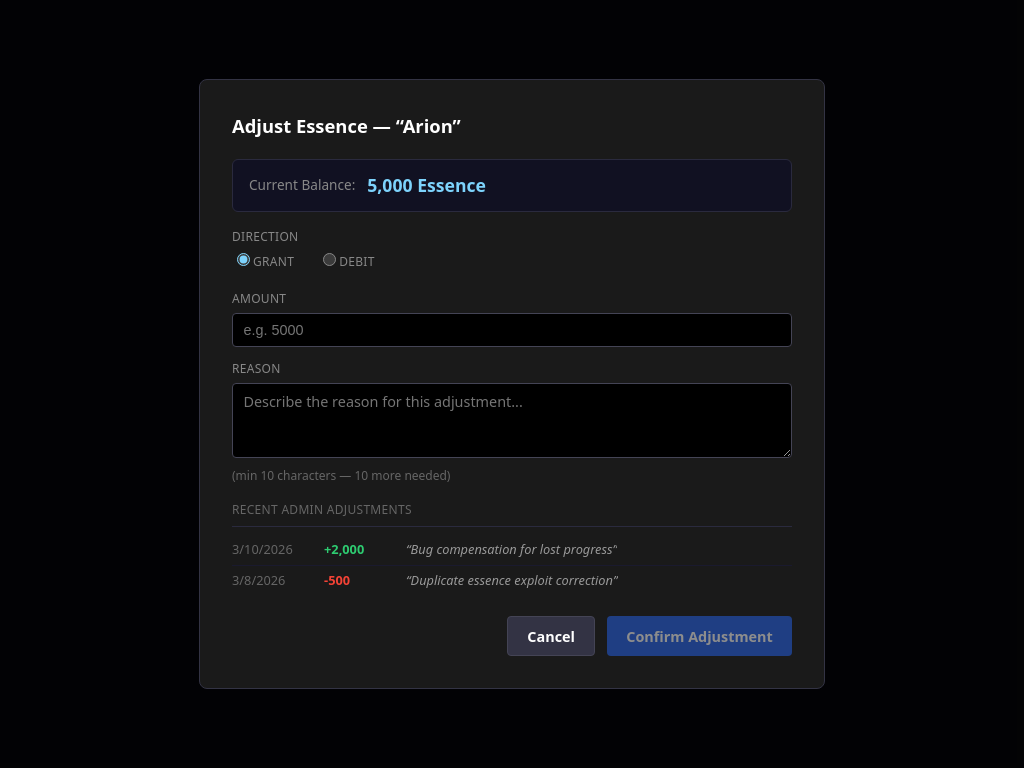
Test: EssenceAdjustModal › grant/debit toggle updates preview
Expected: the text "5,000 Essence" is shown, [367,172,486,199]
// Enter an amount
Type "1000" into the number field with placeholder "e.g. 5000" at {"x": 512, "y": 330}, box [232,312,792,346]
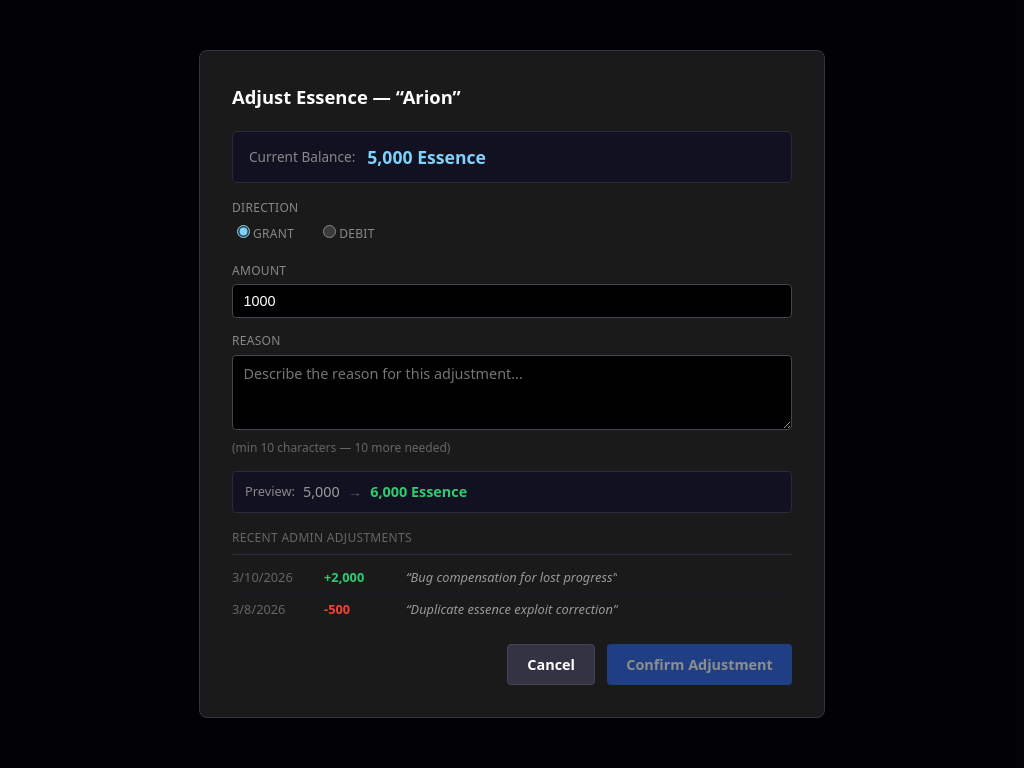
Now the text "6,000 Essence" is shown, box [370,481,467,503]
// Switch to debit
Click the radio button labelled "Debit" at {"x": 330, "y": 232}, box [323,225,336,238]
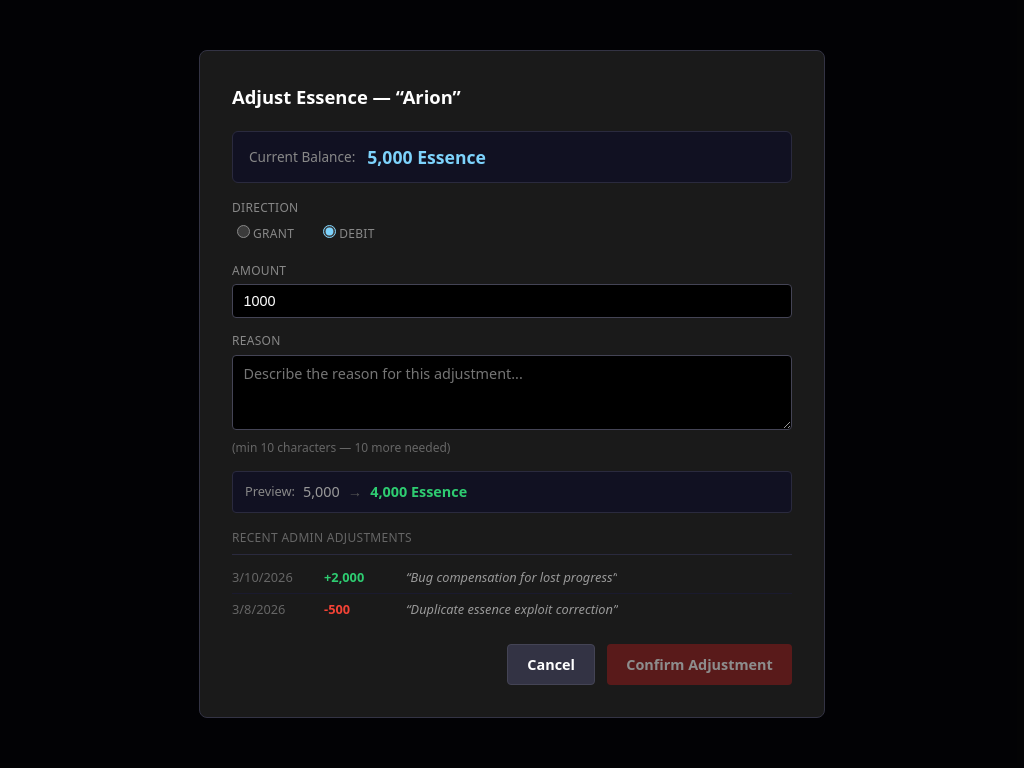
Now the text "4,000 Essence" is shown, box [370,481,467,503]
